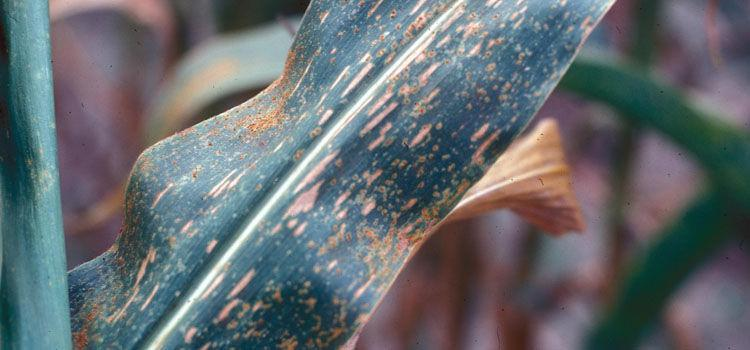Corn_Common_Rust: (0, 2, 597, 348)
